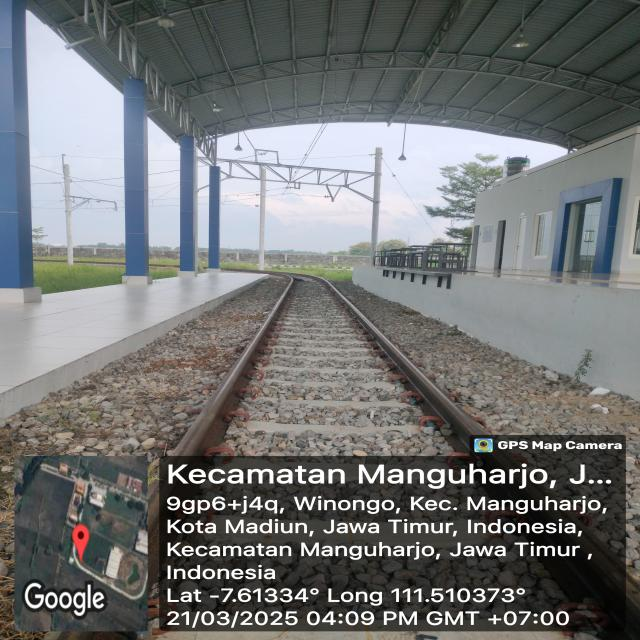rail-detection: (299, 275, 488, 459), (170, 274, 298, 456)
